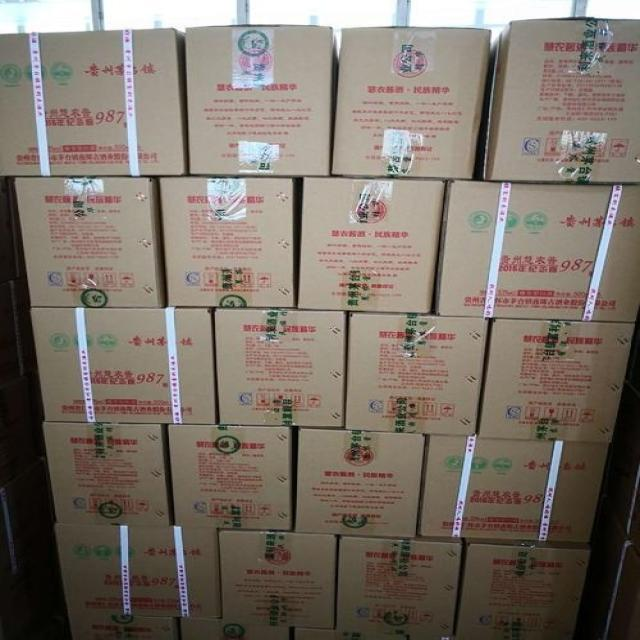box: (432, 181, 639, 322), (0, 28, 190, 178), (474, 17, 639, 181), (330, 26, 492, 178), (187, 26, 339, 177), (31, 305, 218, 424), (417, 437, 609, 543), (297, 179, 448, 313), (13, 178, 164, 307), (474, 320, 633, 442), (343, 312, 490, 436), (159, 178, 296, 308), (212, 308, 346, 429), (56, 526, 221, 619), (294, 430, 425, 539), (166, 425, 293, 531), (42, 424, 172, 526), (454, 539, 589, 637), (337, 537, 462, 635), (221, 531, 336, 629), (67, 610, 180, 639), (178, 617, 290, 639), (292, 626, 446, 639)
